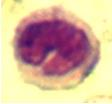monocyte: (11, 4, 103, 91)
